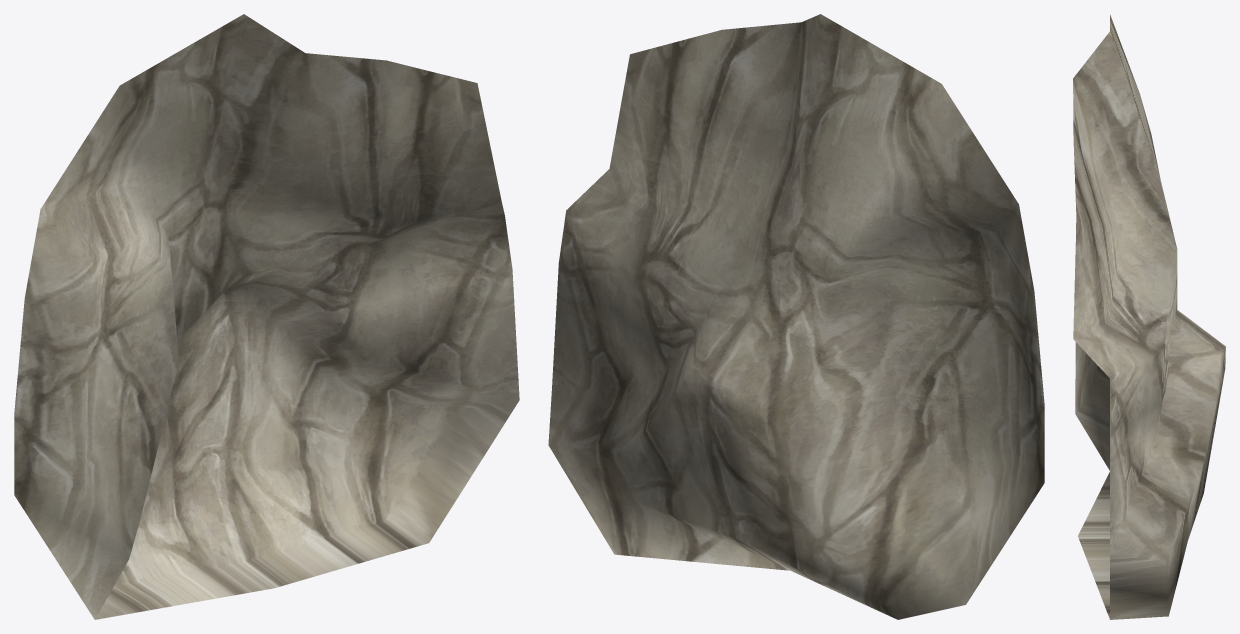
File: cave deadend.FBX
3 views of the same model, side by side, from view 1: azimuth 30°, elevation 25°; view 2: azimuth 150°, elevation 25°; view 3: azimuth 270°, elevation 25° (orthographic). The views are drawn at different scales.
Parts seen in each view (by area): view 1: cave deadend; view 2: cave deadend; view 3: cave deadend.
Part boxes in pixels (bbox=[...]): cave deadend: bbox=[14, 14, 519, 619]; cave deadend: bbox=[548, 14, 1044, 619]; cave deadend: bbox=[1073, 14, 1225, 619].
Size of the model in its own units: 16.42 by 17.83 by 4.86.
